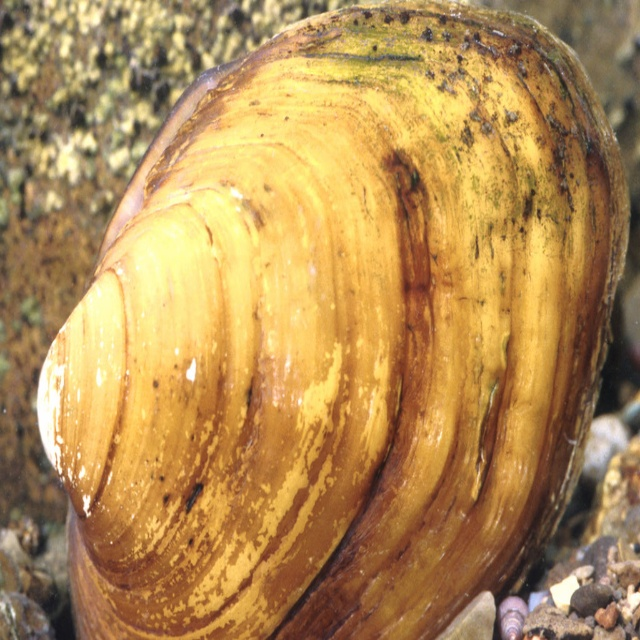Snail: (34, 2, 630, 639)
